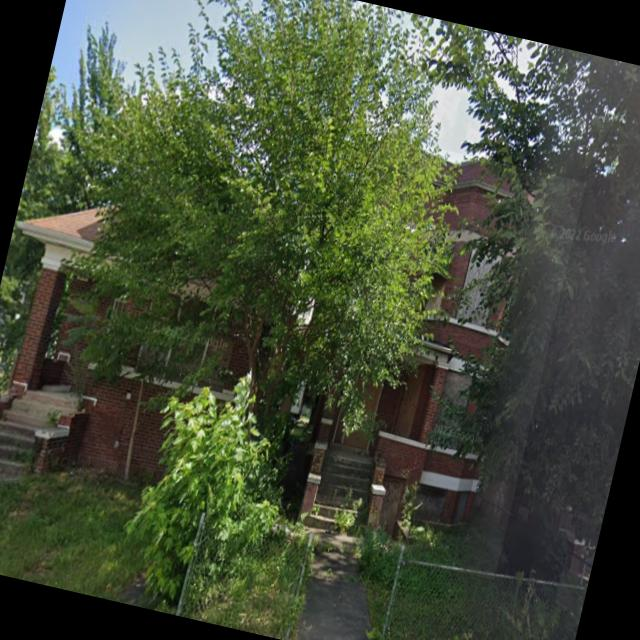House: (293, 136, 586, 580), (0, 140, 322, 537)
